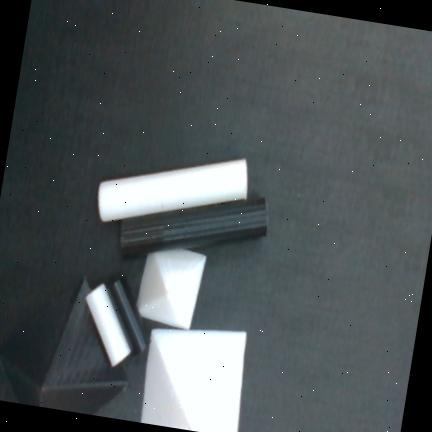Cilindro: (98, 159, 248, 223), (121, 197, 268, 257), (84, 284, 131, 368), (107, 276, 151, 357)
Piramide: (0, 275, 131, 414), (142, 329, 247, 432), (136, 247, 206, 331)
